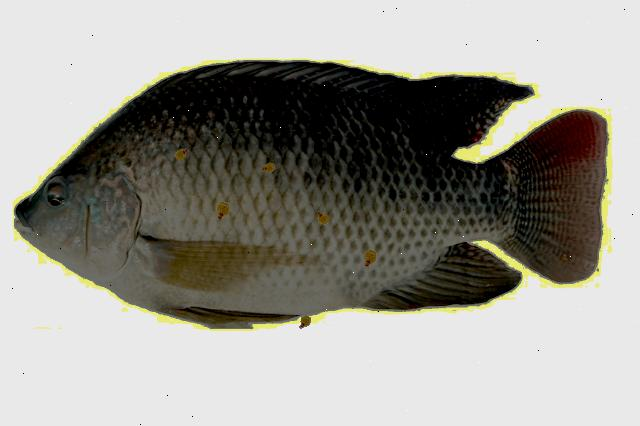Parasitic Disease: (15, 61, 606, 328)
